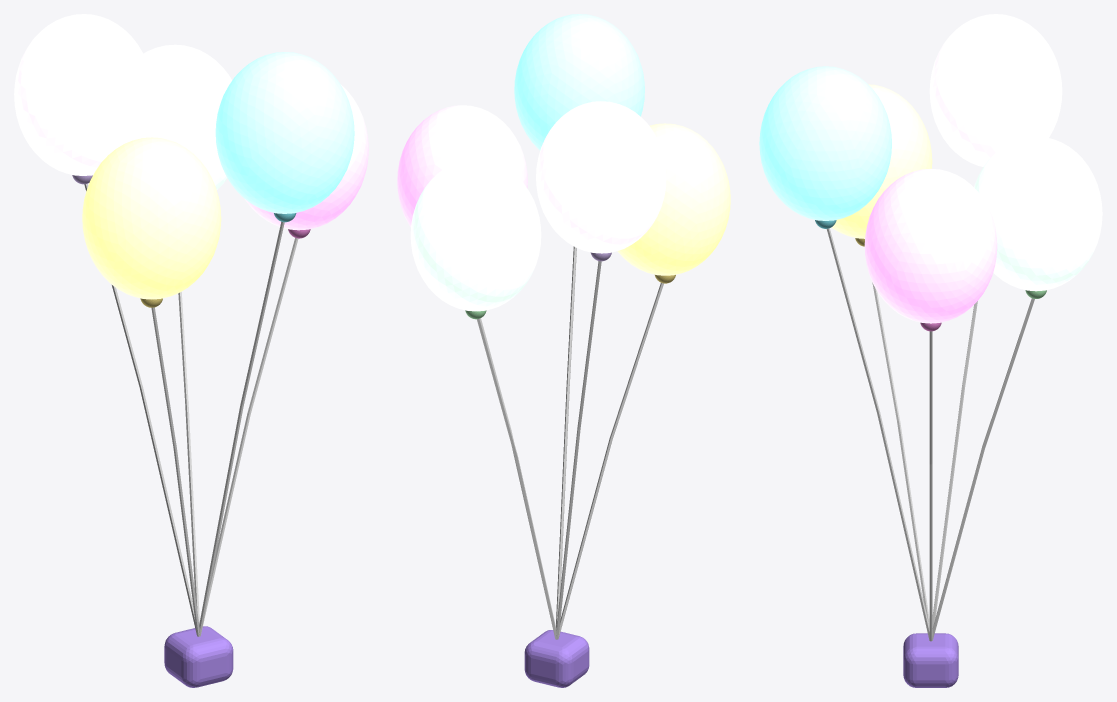
Rendered from balloon-bunch.glb.
The picture shows the model from 3 angles, left to right: view 1: azimuth 30°, elevation 25°; view 2: azimuth 150°, elevation 25°; view 3: azimuth 270°, elevation 25°; orthographic projection. The views are drawn at different scales.
Parts seen in each view (by area): view 1: balloon_body_2, balloon_body_1, balloon_body_3, balloon_body_4, weight, balloon_body_0, string_1, string_0, string_3, string_2, string_4; view 2: balloon_body_4, balloon_body_3, balloon_body_1, balloon_body_2, balloon_body_0, weight, string_3, string_1, string_2, string_4; view 3: balloon_body_0, balloon_body_1, balloon_body_3, balloon_body_4, balloon_body_2, weight, string_1, string_4, string_2, string_3, string_0.
Part boxes in pixels (<box>): balloon_body_2: <box>82,137,221,299</box>; balloon_body_1: <box>215,52,354,213</box>; balloon_body_3: <box>14,14,152,175</box>; balloon_body_4: <box>142,44,231,189</box>; weight: <box>164,626,233,687</box>; balloon_body_0: <box>245,84,368,230</box>; string_1: <box>198,221,284,636</box>; string_0: <box>201,238,298,632</box>; string_3: <box>84,183,196,634</box>; string_2: <box>151,307,199,636</box>; string_4: <box>178,292,199,624</box>; balloon_body_4: <box>410,159,541,311</box>; balloon_body_3: <box>536,101,666,253</box>; balloon_body_1: <box>514,14,644,150</box>; balloon_body_2: <box>617,123,730,275</box>; balloon_body_0: <box>397,105,527,227</box>; weight: <box>524,630,589,687</box>; string_3: <box>556,261,601,639</box>; string_1: <box>556,246,576,627</box>; string_2: <box>558,283,663,638</box>; string_4: <box>477,318,556,639</box>; balloon_body_0: <box>864,168,997,323</box>; balloon_body_1: <box>759,66,891,220</box>; balloon_body_3: <box>929,14,1062,166</box>; balloon_body_4: <box>974,136,1102,291</box>; balloon_body_2: <box>831,84,932,238</box>; weight: <box>903,633,958,687</box>; string_1: <box>826,228,929,640</box>; string_4: <box>931,298,1034,640</box>; string_2: <box>872,282,929,625</box>; string_3: <box>932,301,977,627</box>; string_0: <box>929,331,932,641</box>.
Bounding box in the file's own units: 1.5 × 3.11 × 1.55.
